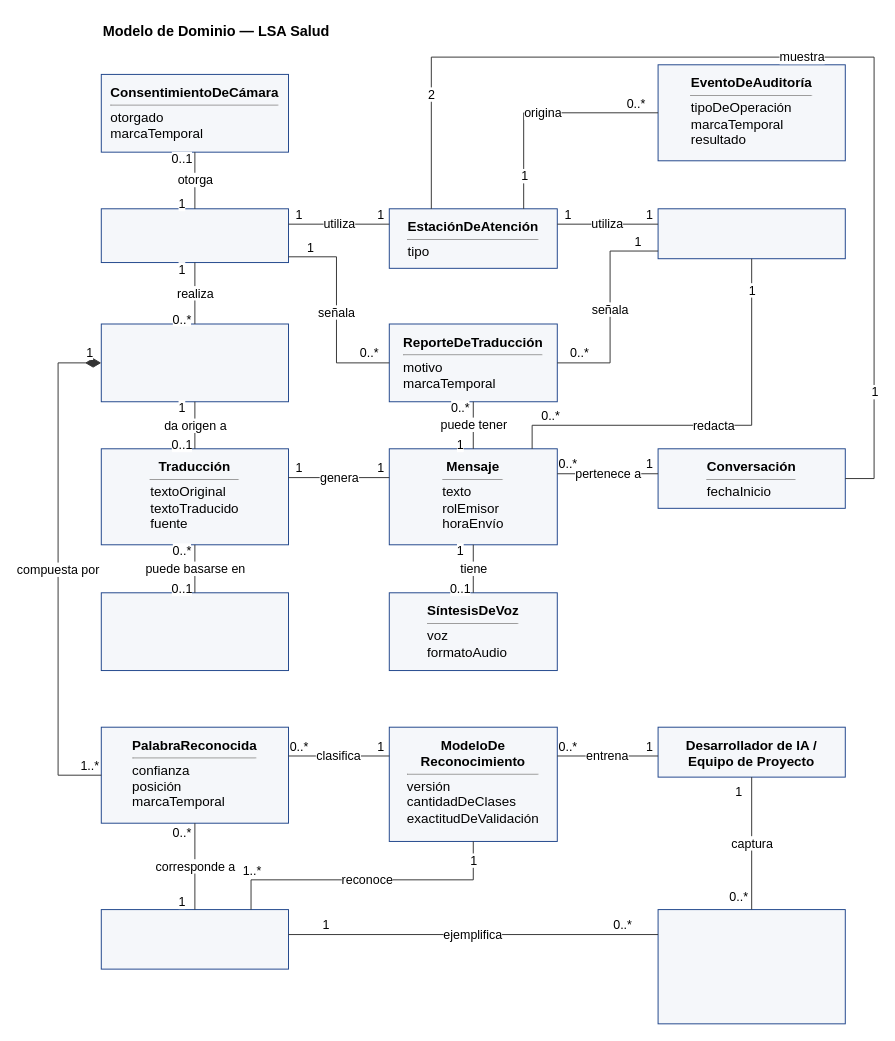
The diagram is 895 pixels wide and 1041 high, and some of its shapes have lost their labels. The shapes that lost their labels are listed below. From the top down, each one's centre as x and y in pixels, then its label:
At pixel 194 235: "Paciente".
At pixel 751 233: "Personal de Recepción o Enfermería".
At pixel 194 362: "SecuenciaDeSeñas estado marcaTemporalInicio".
At pixel 194 631: "PlantillaMédica combinaciónDeSeñas fraseResultante".
At pixel 194 939: "ClaseDeSeña nombre".
At pixel 751 966: "MuestraDe Entrenamiento cantidadDeFrames fechaCaptura cantidadDeBlendshapes".
